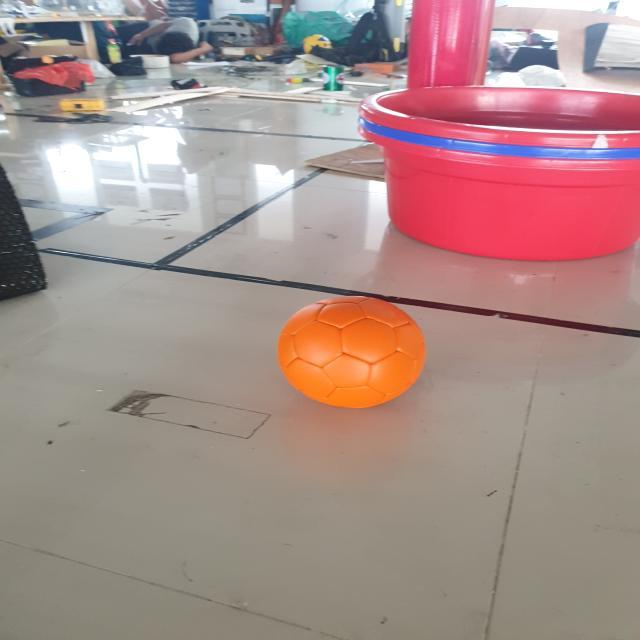bola: (266, 283, 450, 423)
